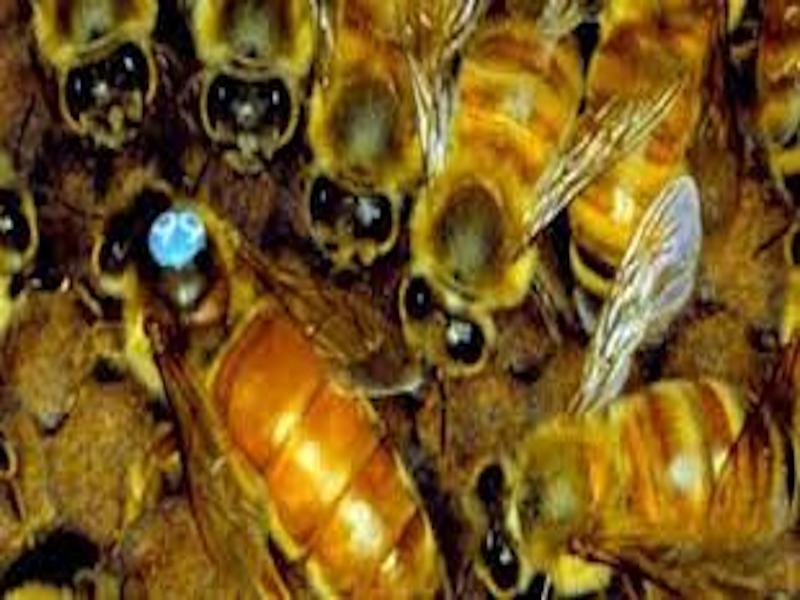abeja: (442, 384, 800, 590), (420, 4, 601, 398), (283, 2, 467, 299), (31, 1, 176, 201), (192, 1, 320, 209)
